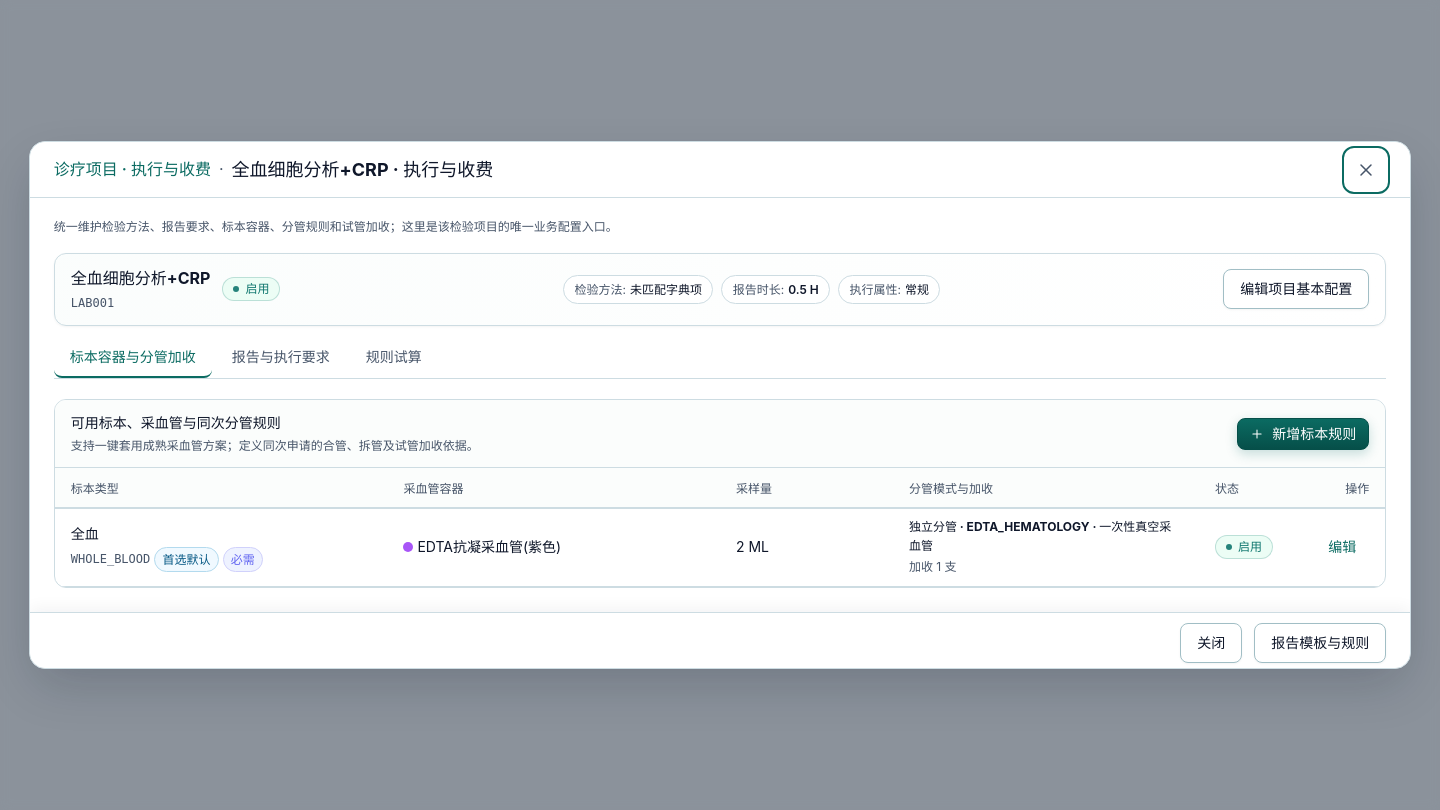
Test case: OperationalMasterDataPanel & ClinicalServiceConfigurationDialog › does not use late tube results or replace a blank quantity with one
Step 1. Click the button "规则试算" → click(394, 358), box left=350, top=338, right=438, bottom=378
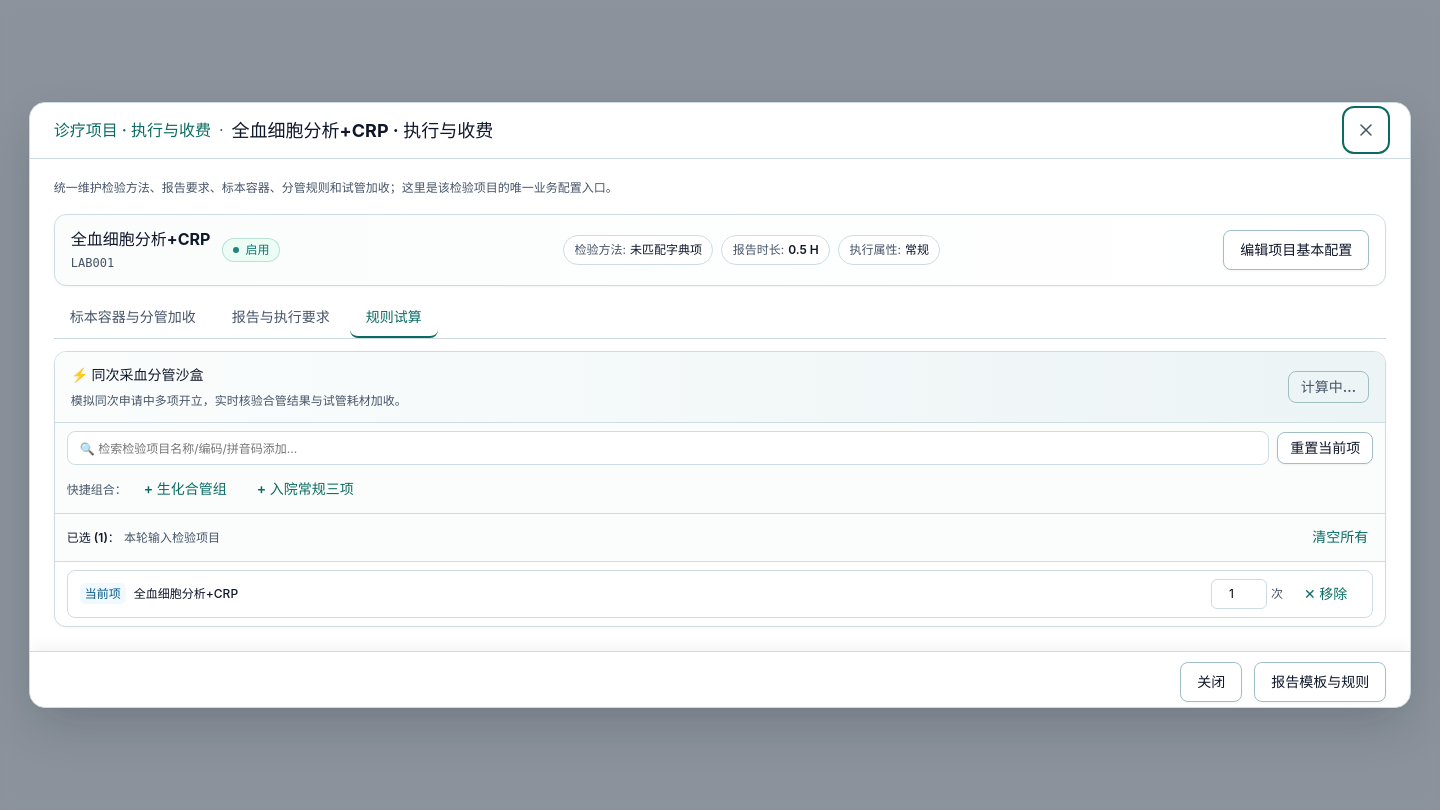
Step 2. Replace the text in the number field named "全血细胞分析+CRP数量" with "2" → (1239, 594), box left=1211, top=579, right=1267, bottom=609
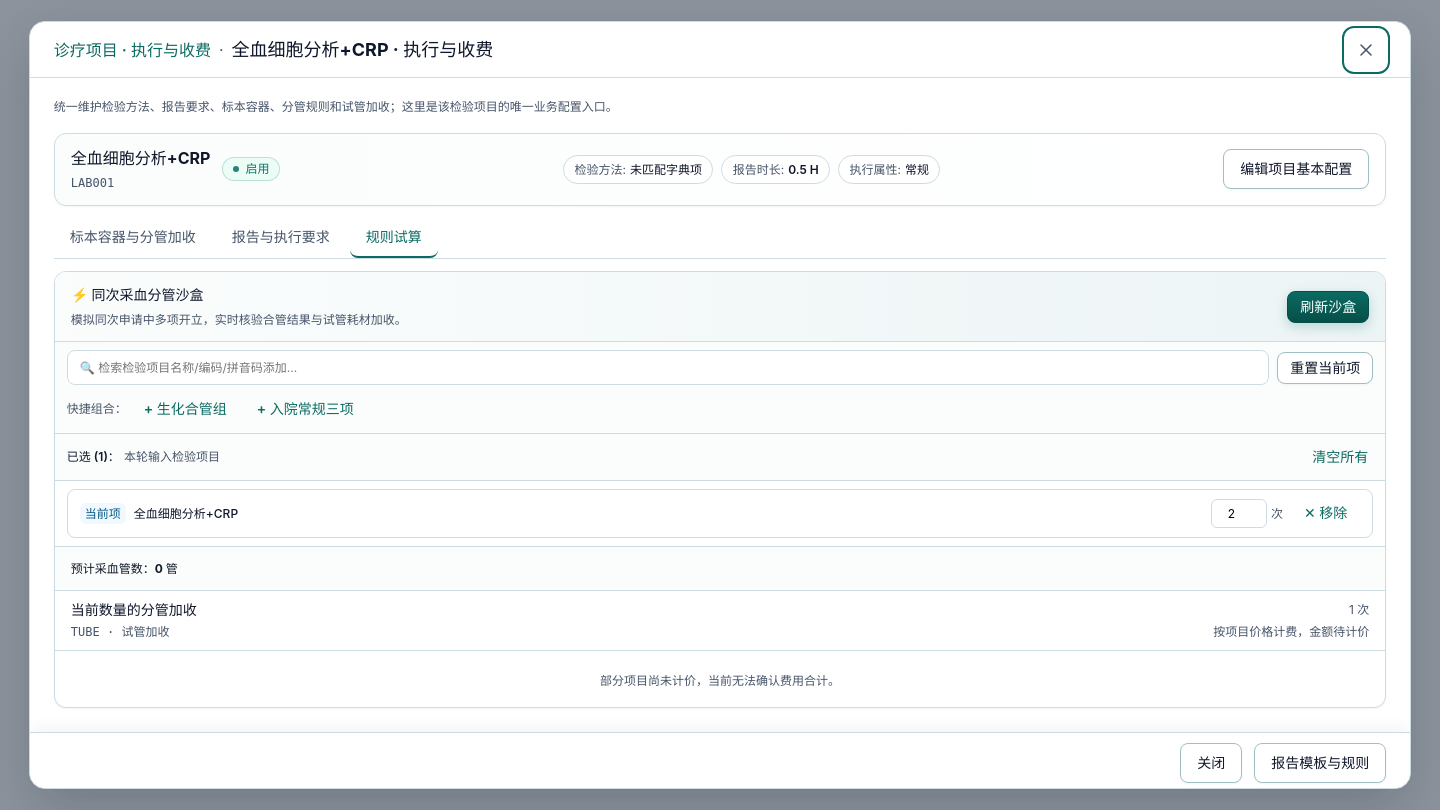
Now the text "当前数量的分管加收" is shown, box left=71, top=599, right=197, bottom=621
Step 3. Clear the number field named "全血细胞分析+CRP数量" → (1239, 513), box left=1211, top=499, right=1267, bottom=528
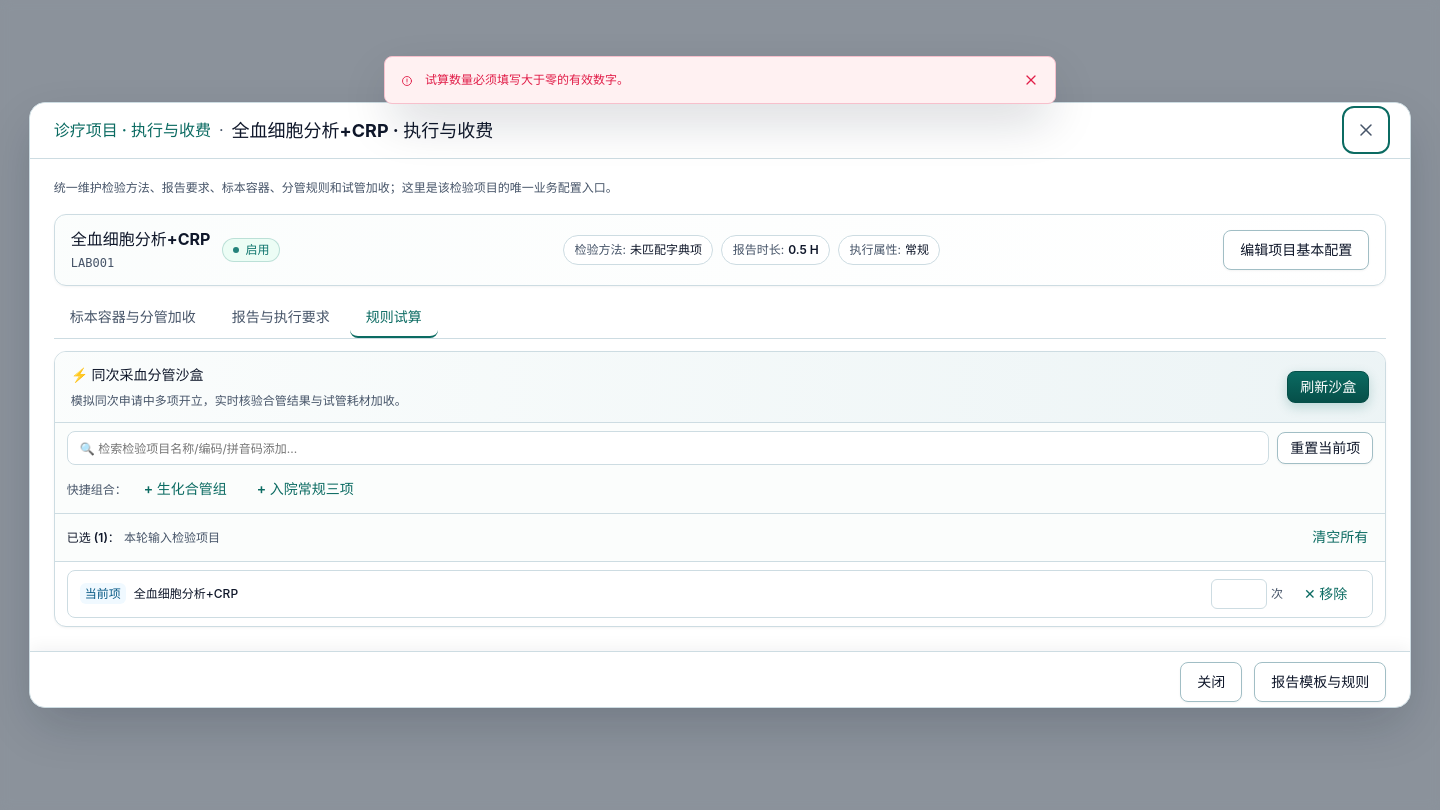
Now the text "试算数量必须填写大于零的有效数字。" is shown, box left=425, top=72, right=629, bottom=87
Now the text "当前数量的分管加收" is gone
